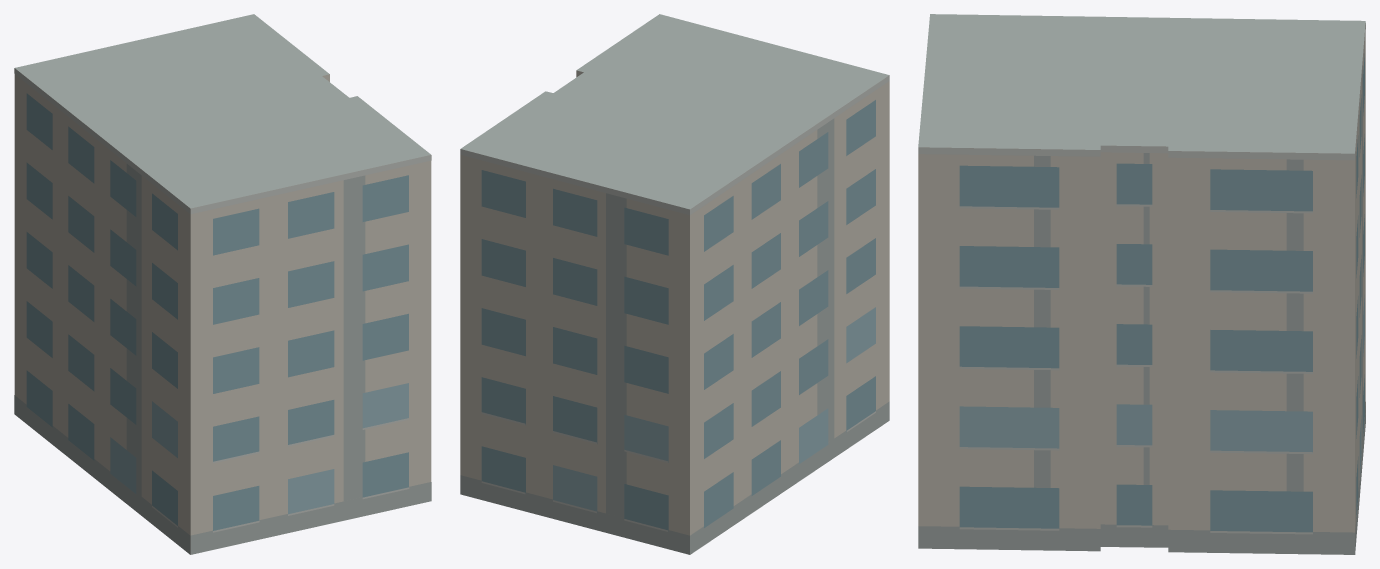
File: survey-upis-32963836.glb
3 renders of one model, left to right at view 1: azimuth 30°, elevation 25°; view 2: azimuth 150°, elevation 25°; view 3: azimuth 270°, elevation 25°, orthographic. The views are drawn at different scales.
Parts seen in each view (by area): view 1: survey-upis-32963836.tmp; view 2: survey-upis-32963836.tmp; view 3: survey-upis-32963836.tmp.
Boxes of the visible parts, x1,y1,x2,y2 form: survey-upis-32963836.tmp: [14, 14, 431, 554]; survey-upis-32963836.tmp: [460, 14, 889, 554]; survey-upis-32963836.tmp: [918, 14, 1365, 554].
Bounding box in the file's own units: 10.8 × 14.45 × 14.62.
